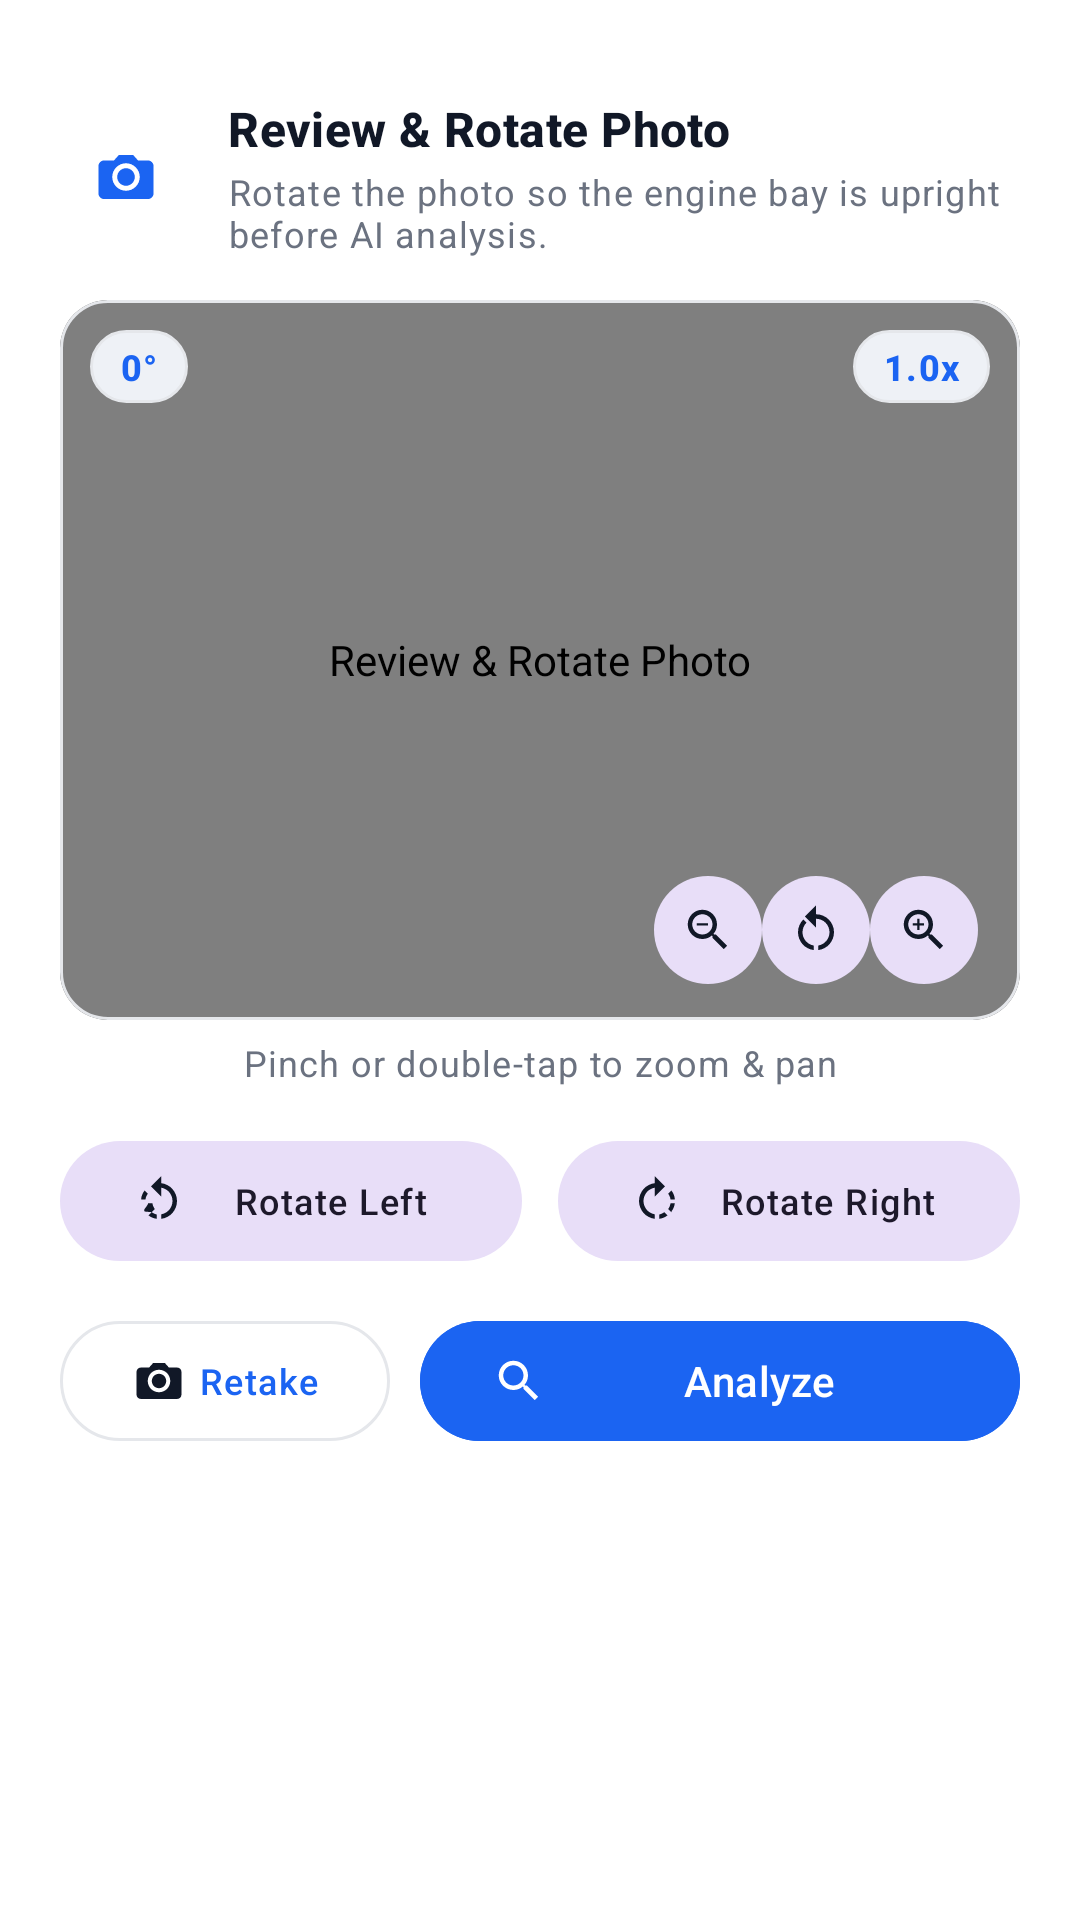

Icons on this 1080w x 1920h Android screen, each with the point to tap as (x=x, y=y):
camera: (x=126, y=177)
Reset Zoom: (x=816, y=930)
Zoom In: (x=924, y=930)
Zoom Out: (x=708, y=930)
